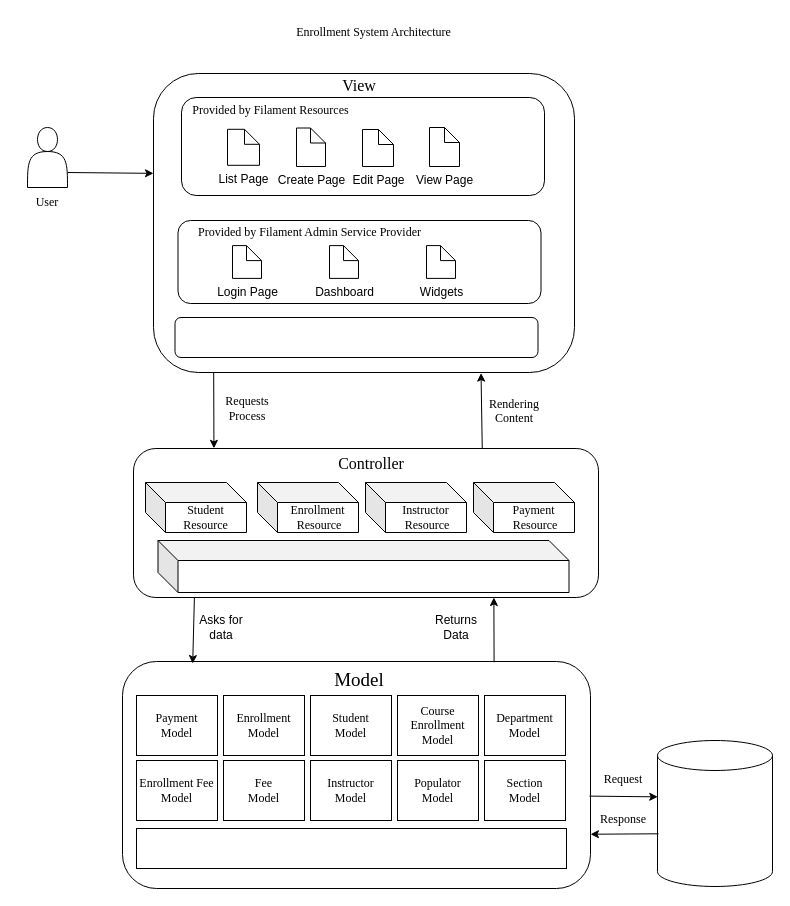
Some shapes in this 790 by 906 pixel diagram are drawn without their labels. Here are the shapes that lost their labels. From the top down, the centre of each, then its label:
At (x=356, y=337): "Custom Livewire pages".
At (x=363, y=566): "Filament's Admin Service Provider".
At (x=714, y=813): "SQLite".
At (x=351, y=848): "User Model".
